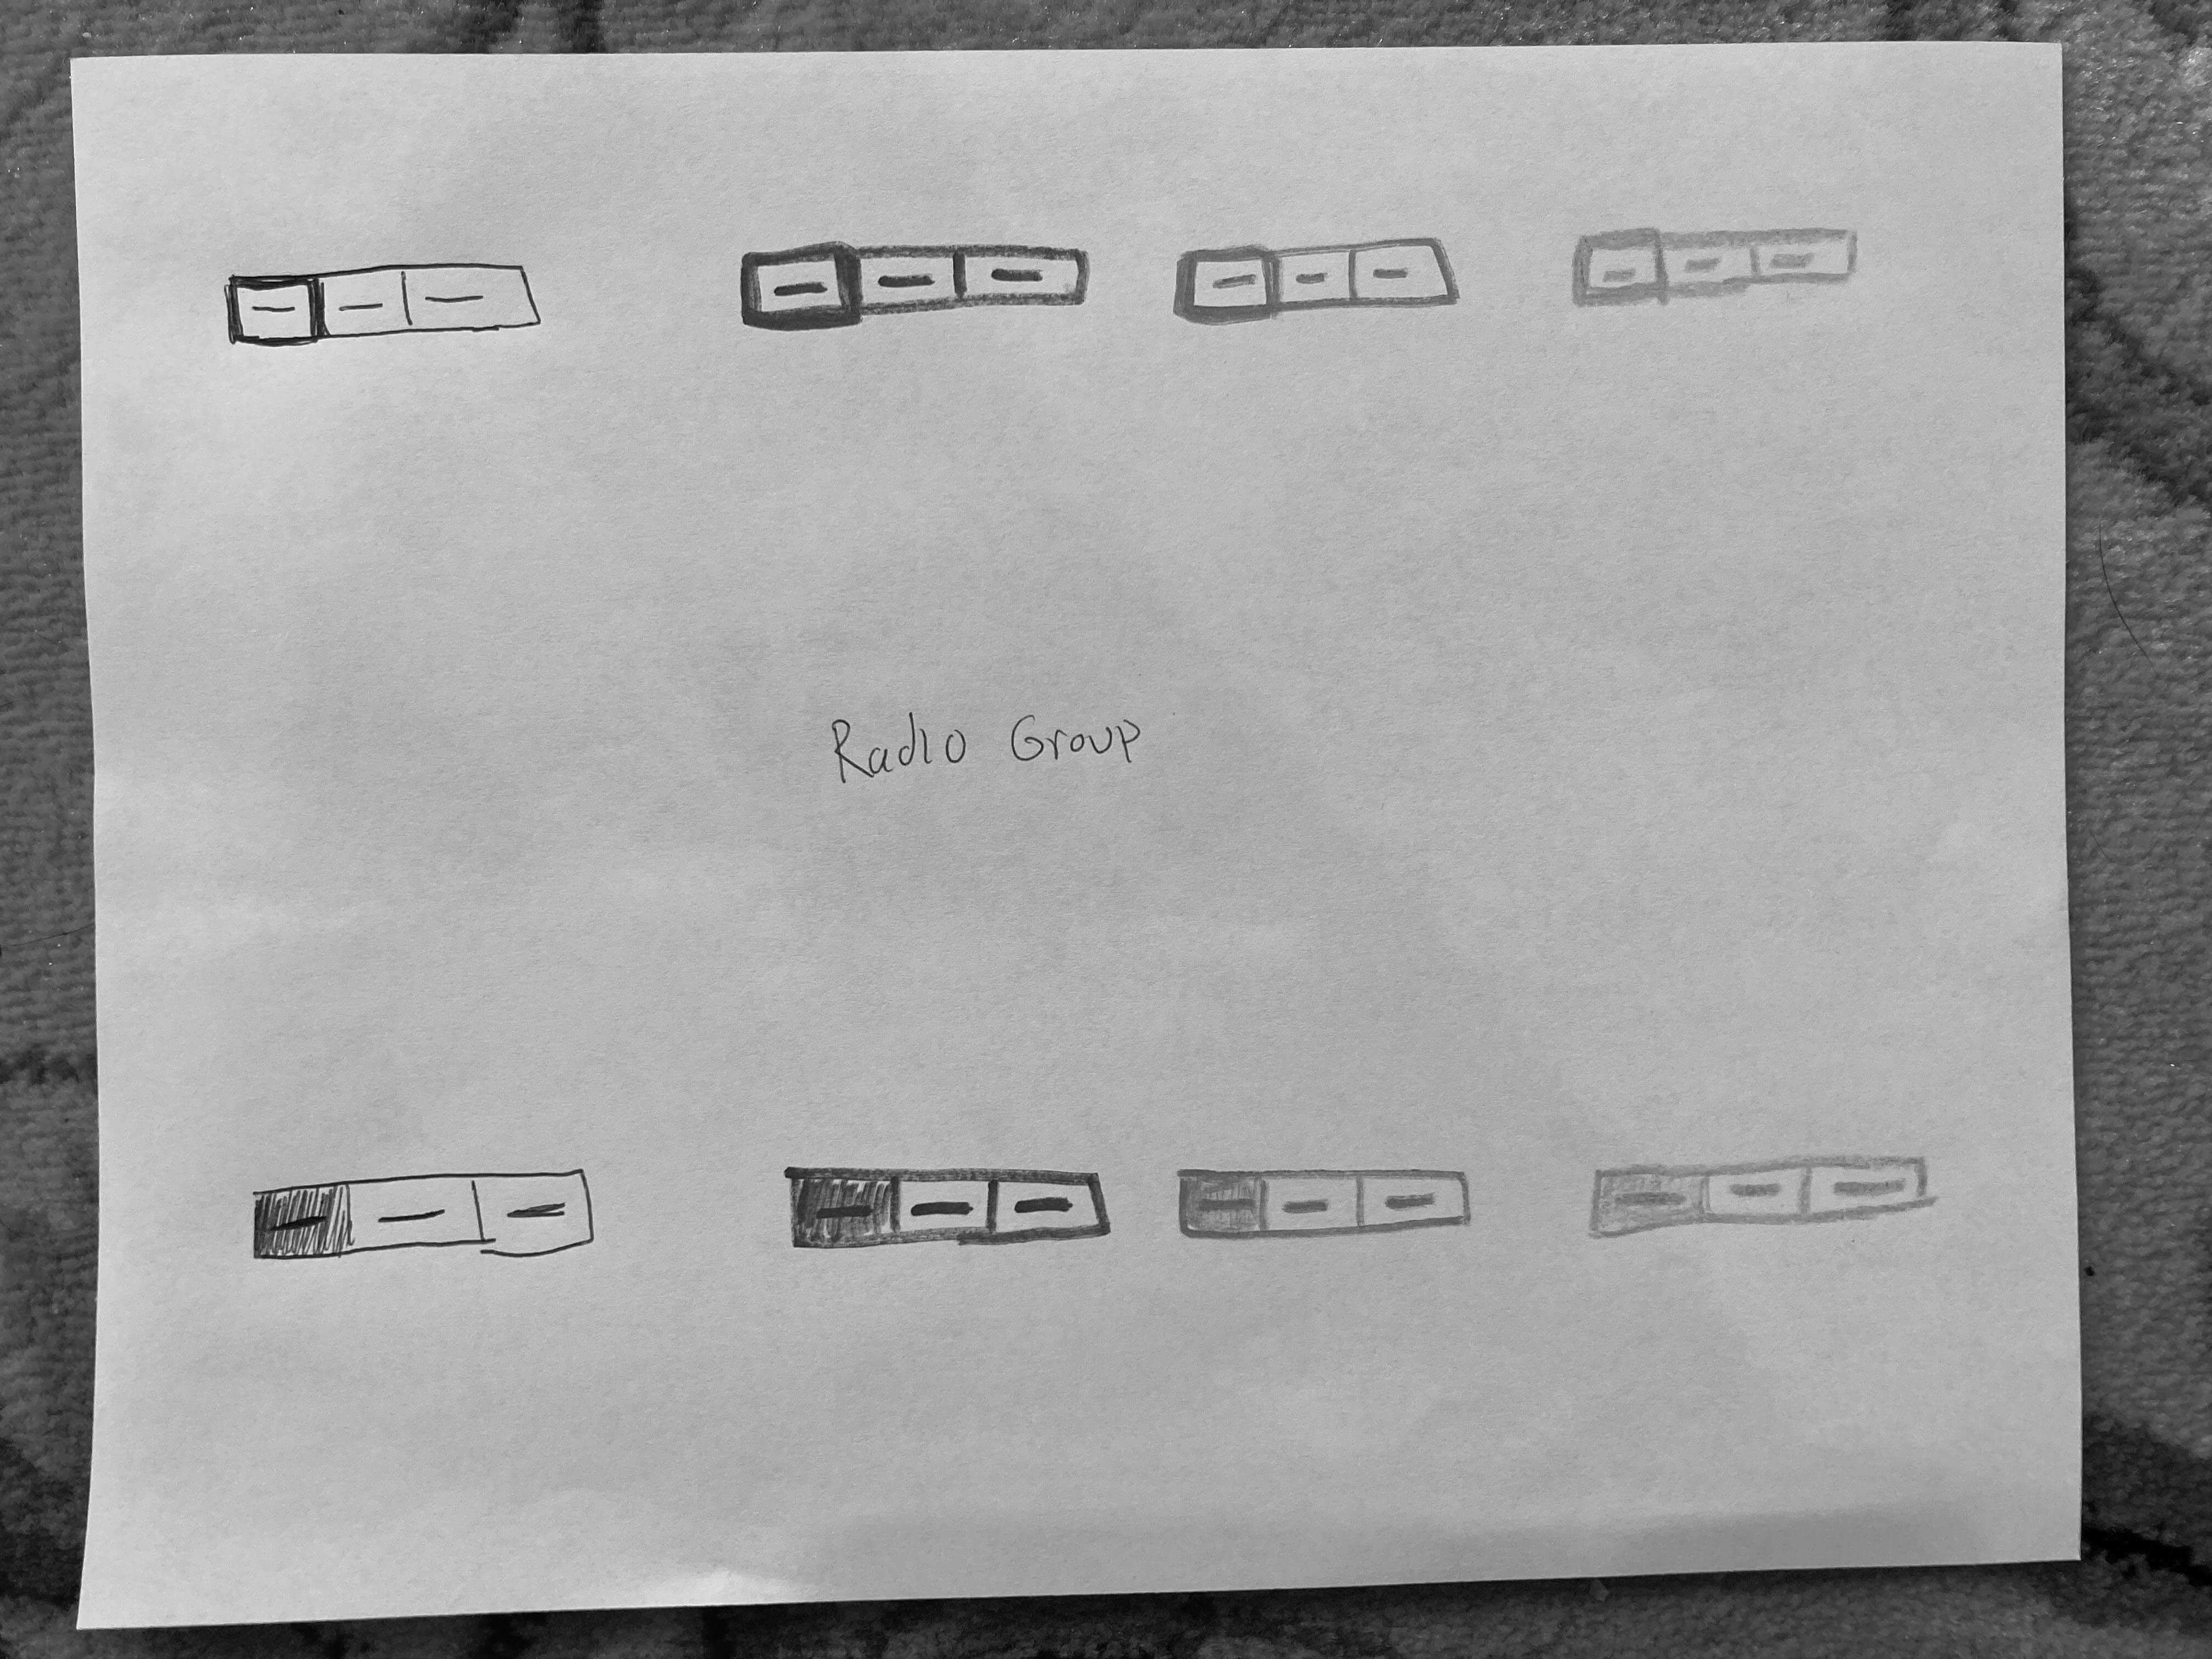radio-group: (219, 247, 549, 359), (1170, 227, 1474, 340), (735, 240, 1092, 333), (1562, 223, 1865, 307)
